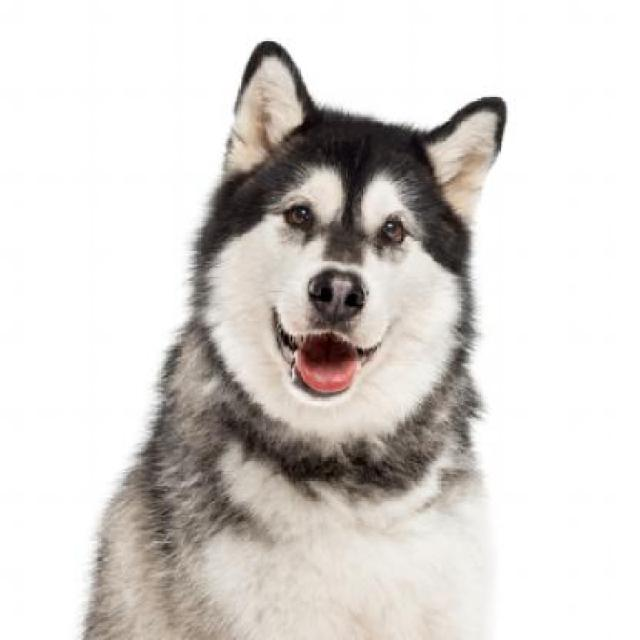animals: (133, 12, 542, 610)
